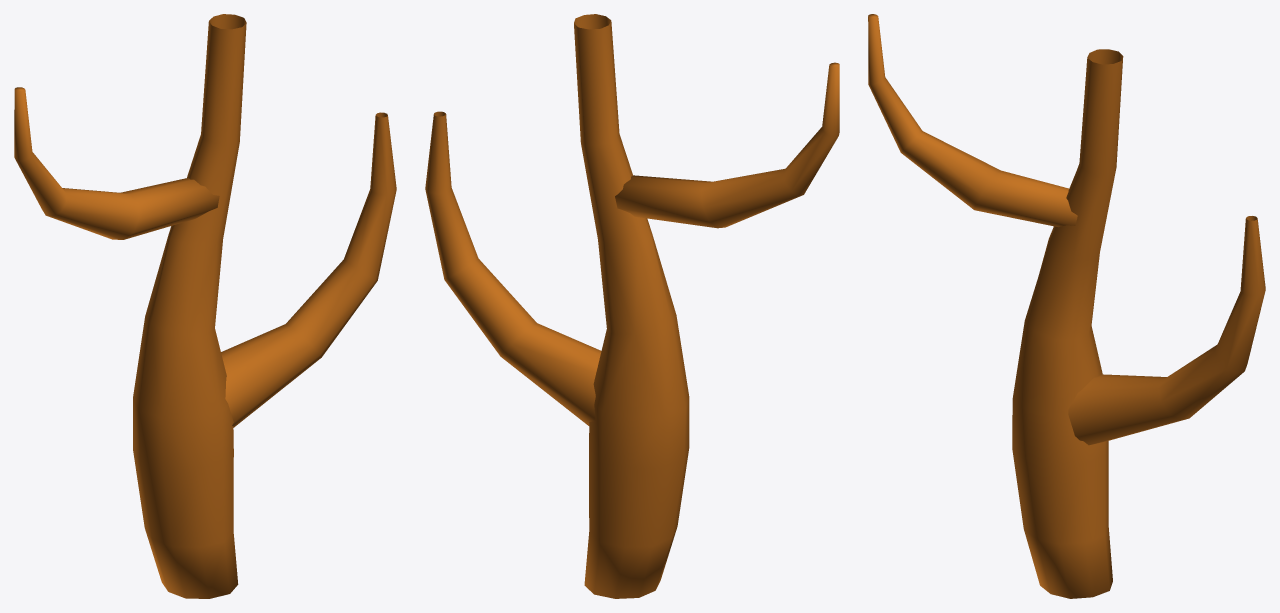
The model's file is TreeTrunk_10.fbx.
The picture shows the model from 3 angles, left to right: view 1: azimuth 30°, elevation 25°; view 2: azimuth 150°, elevation 25°; view 3: azimuth 330°, elevation 25°; orthographic projection. The views are drawn at different scales.
Parts seen in each view (by area): view 1: TreeTrunk_10; view 2: TreeTrunk_10; view 3: TreeTrunk_10.
Part boxes in pixels (x1,y1,x2,y2): TreeTrunk_10: (14, 14, 396, 598); TreeTrunk_10: (425, 14, 839, 598); TreeTrunk_10: (868, 14, 1265, 598).
Size of the model in its own units: 258 by 346 by 52.57.
